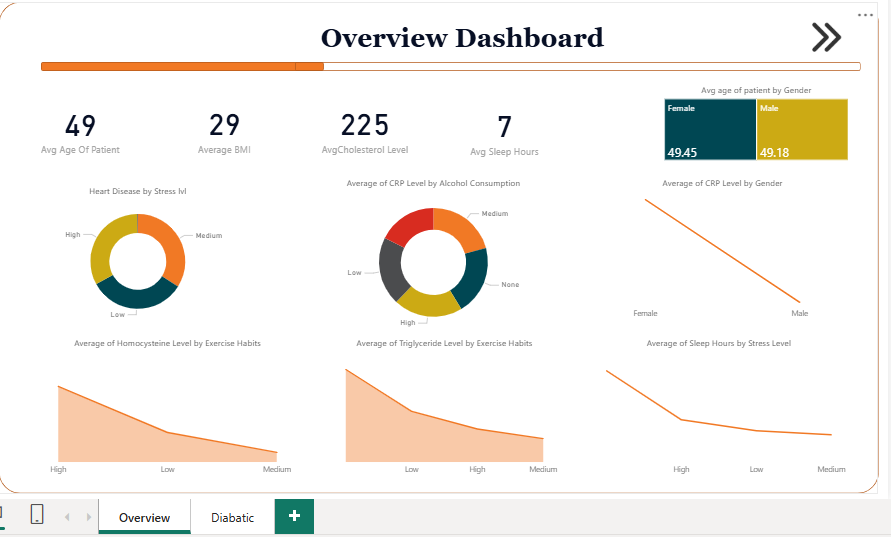

The dashboard page shown, as its layout file describes it:
{"tool":"powerbi","page":{"name":"Overview","canvas":[1280,720],"ordinal":0},"visuals":[{"type":"shape","box":[20.7,15.9,1247,696.7],"z":0},{"type":"textbox","box":[415,40,480.4,70],"z":1000},{"type":"card","fields":{"Values":["Avg(heart_disease.Age)"]},"box":[66.8,149.5,140,90.7],"z":2000},{"type":"card","fields":{"Values":["Avg(heart_disease.BMI)"]},"box":[270.4,149.5,140,89.1],"z":3000},{"type":"card","fields":{"Values":["Avg(heart_disease.Cholesterol Level)"]},"box":[469.2,149.5,141.6,89.1],"z":4000},{"type":"card","fields":{"Values":["Avg(heart_disease.Sleep Hours)"]},"box":[668.1,151.1,140,89.1],"z":5000},{"type":"donutChart","title":"Heart Disease by Stress lvl","fields":{"Y":["CountNonNull(heart_disease.Heart Disease Status)"],"Category":["heart_disease.Stress Level"]},"box":[38.2,275.2,359.5,200.4],"z":6000},{"type":"donutChart","fields":{"Y":["Avg(heart_disease.CRP Level)"],"Category":["heart_disease.Alcohol Consumption"]},"box":[429.5,264,415.1,225.9],"z":7000},{"type":"lineChart","fields":{"Category":["heart_disease.Stress Level"],"Y":["Avg(heart_disease.Sleep Hours)"]},"box":[835.1,489.9,413.6,205.2],"z":8000},{"type":"areaChart","fields":{"Y":["Avg(heart_disease.Homocysteine Level)"],"Category":["heart_disease.Exercise Habits"]},"box":[38.2,489.9,443.8,205.2],"z":9000},{"type":"treemap","title":"Avg age of patient by Gender","fields":{"Group":["heart_disease.Gender"],"Values":["Avg(heart_disease.Age)"]},"box":[959.1,132,270.4,112.9],"z":10000},{"type":"stackedAreaChart","fields":{"Category":["heart_disease.Exercise Habits"],"Y":["Avg(heart_disease.Triglyceride Level)"]},"box":[470.8,489.9,364.2,205.2],"z":11000},{"type":"lineChart","fields":{"Y":["Avg(heart_disease.CRP Level)"],"Category":["heart_disease.Gender"]},"box":[844.6,264,404,211.6],"z":12000},{"type":"shape","box":[81.1,100.2,400.8,12.7],"z":13000},{"type":"shape","box":[440.6,100.2,801.7,12.7],"z":14000},{"type":"image","box":[1150,25,90.7,79.5],"z":15000}]}

Visuals, with their boxes on the page's 1280x720 design canvas (x1, y1, x2, y2). These are canvas units, not pixel positions in the 891x537 screenshot, which may show the page scaled, cropped or inside an application window:
shape: box(21, 16, 1268, 713)
textbox: box(415, 40, 895, 110)
card - Avg(heart_disease.Age): box(67, 150, 207, 240)
card - Avg(heart_disease.BMI): box(270, 150, 410, 239)
card - Avg(heart_disease.Cholesterol Level): box(469, 150, 611, 239)
card - Avg(heart_disease.Sleep Hours): box(668, 151, 808, 240)
"Heart Disease by Stress lvl" donutChart: box(38, 275, 398, 476)
donutChart - Avg(heart_disease.CRP Level) x heart_disease.Alcohol Consumption: box(430, 264, 845, 490)
lineChart - heart_disease.Stress Level x Avg(heart_disease.Sleep Hours): box(835, 490, 1249, 695)
areaChart - Avg(heart_disease.Homocysteine Level) x heart_disease.Exercise Habits: box(38, 490, 482, 695)
"Avg age of patient by Gender" treemap: box(959, 132, 1230, 245)
stackedAreaChart - heart_disease.Exercise Habits x Avg(heart_disease.Triglyceride Level): box(471, 490, 835, 695)
lineChart - Avg(heart_disease.CRP Level) x heart_disease.Gender: box(845, 264, 1249, 476)
shape: box(81, 100, 482, 113)
shape: box(441, 100, 1242, 113)
image: box(1150, 25, 1241, 104)
